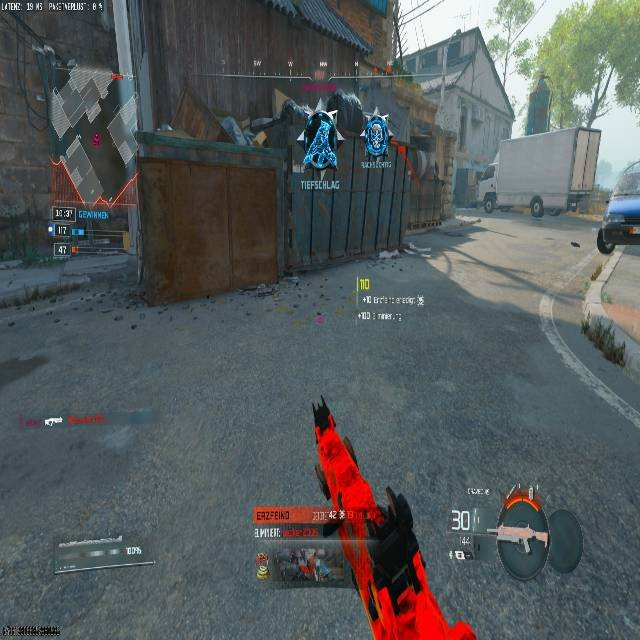player: (302, 110, 340, 169), (477, 176, 498, 213)
